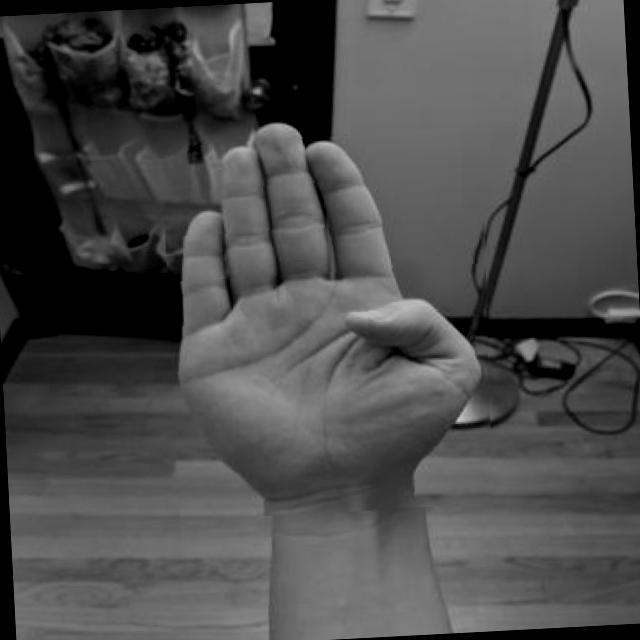B: (159, 108, 502, 522)
